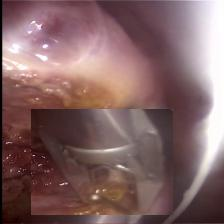Clipper: (30, 109, 172, 215)
